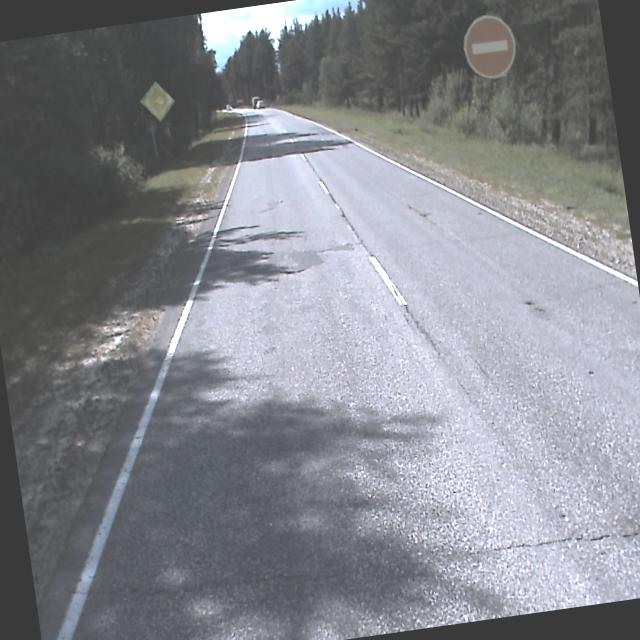road: (38, 106, 640, 640)
